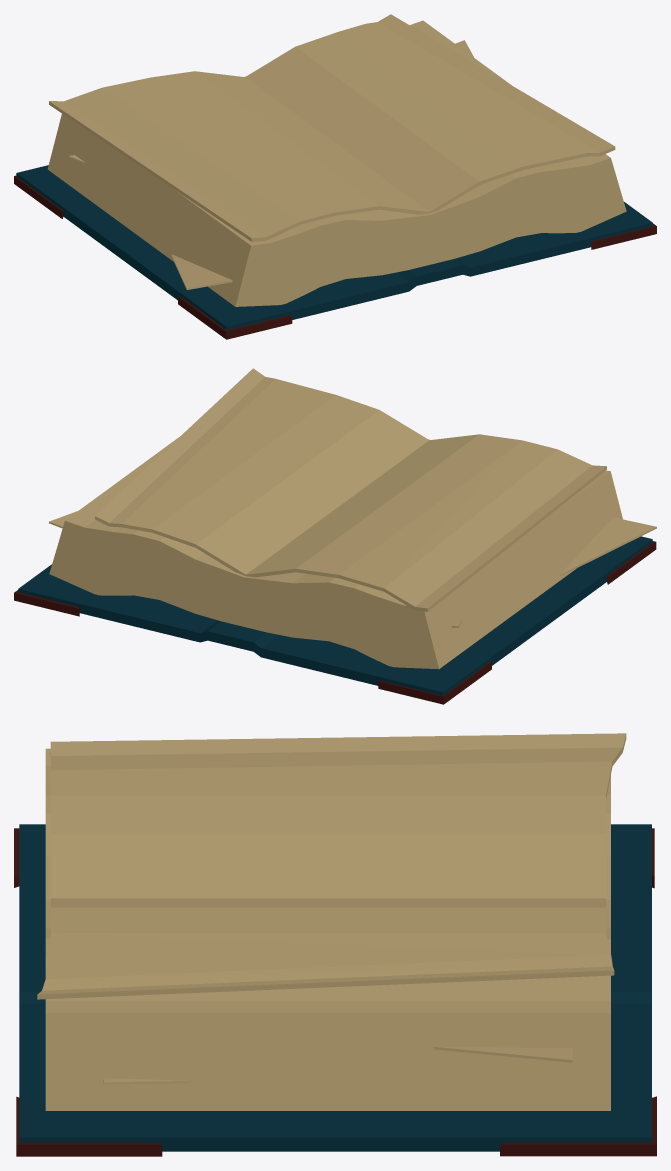
The model's file is book4_open.glb.
3 views of the same model, one above another, from view 1: azimuth 30°, elevation 25°; view 2: azimuth 150°, elevation 25°; view 3: azimuth 270°, elevation 25° (orthographic). The views are drawn at different scales.
Visible parts, largest first — view 1: Book4_Open; view 2: Book4_Open; view 3: Book4_Open.
Boxes of the visible parts, <box> form: Book4_Open: <box>14,14,656,339</box>; Book4_Open: <box>14,368,656,704</box>; Book4_Open: <box>14,733,656,1156</box>.
Bounding box in the file's own units: 91.76 × 17.64 × 75.21.
